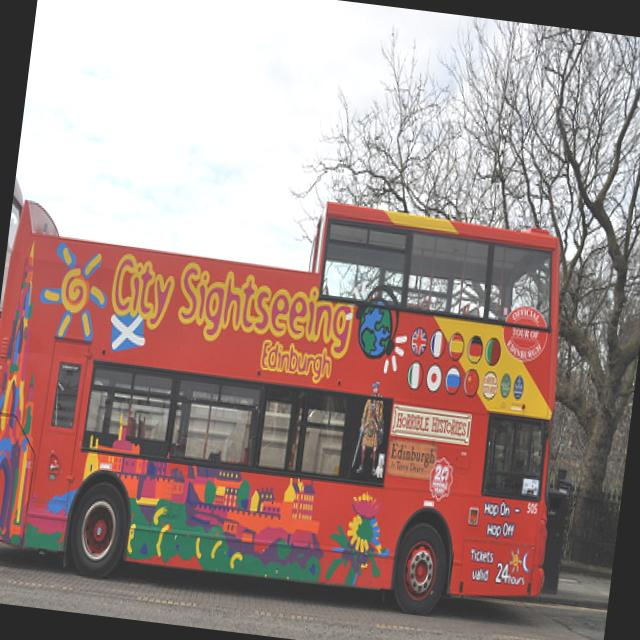Vehicle: (0, 163, 585, 633)
